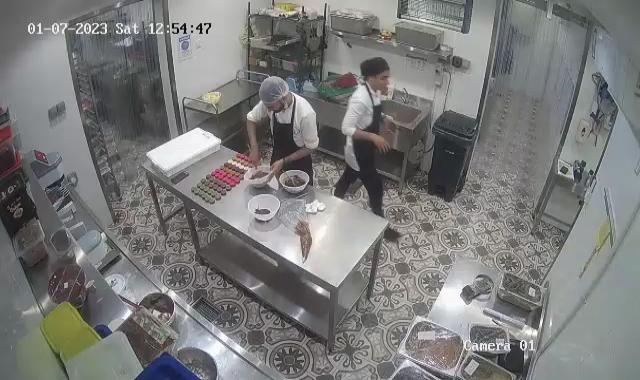hairnet: (258, 76, 292, 107)
no_hairnet: (359, 56, 390, 86)
